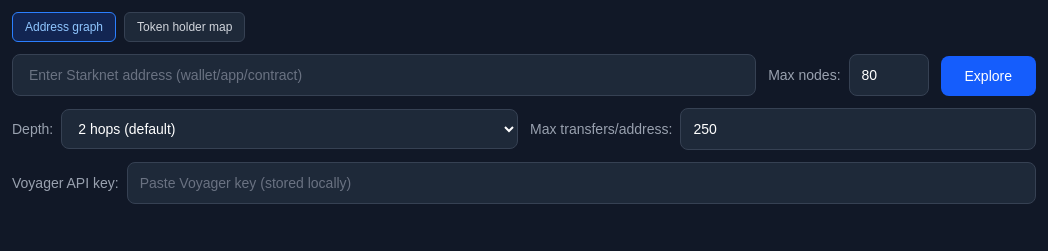
TokenInput › shows validation error for empty address on submit
Click the button "Explore": (988, 76) [940,56,1036,96]
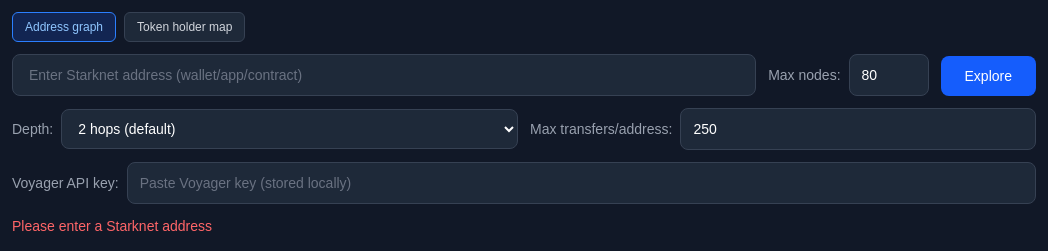
expect the text "Please enter a Starknet address" is shown: met, box [12,218,212,234]
